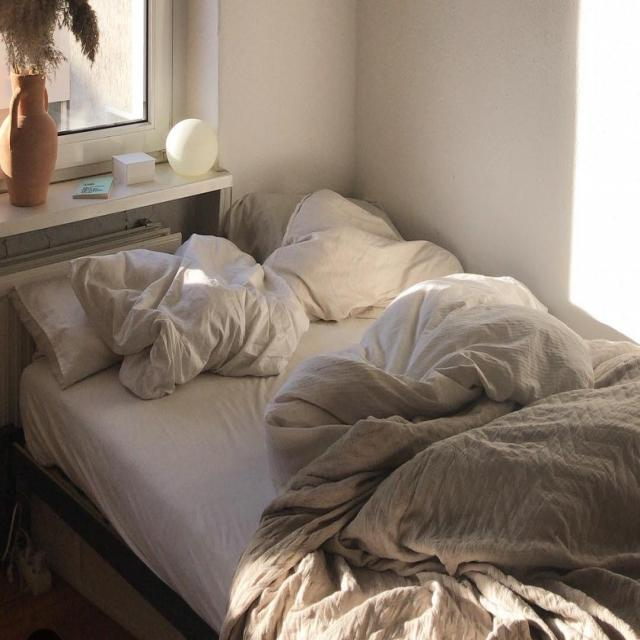bed: (26, 191, 640, 640)
